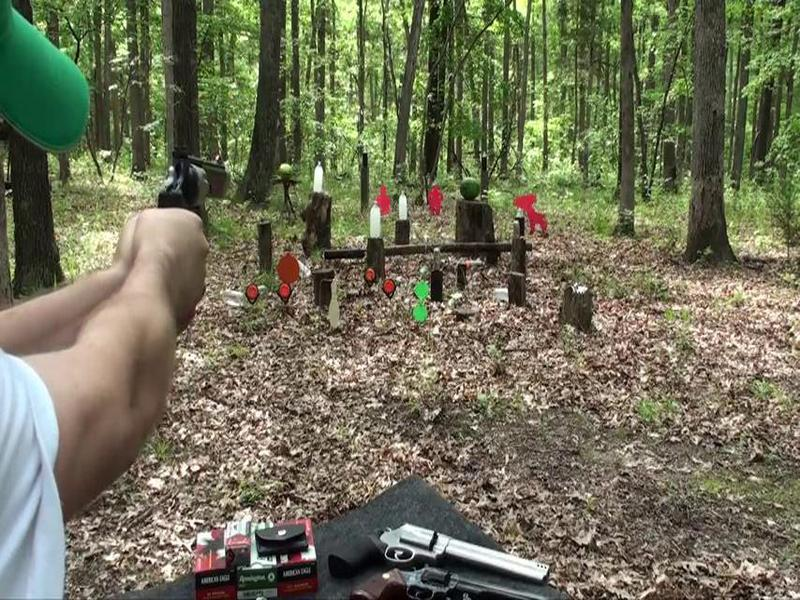Revolver: (157, 124, 242, 261)
